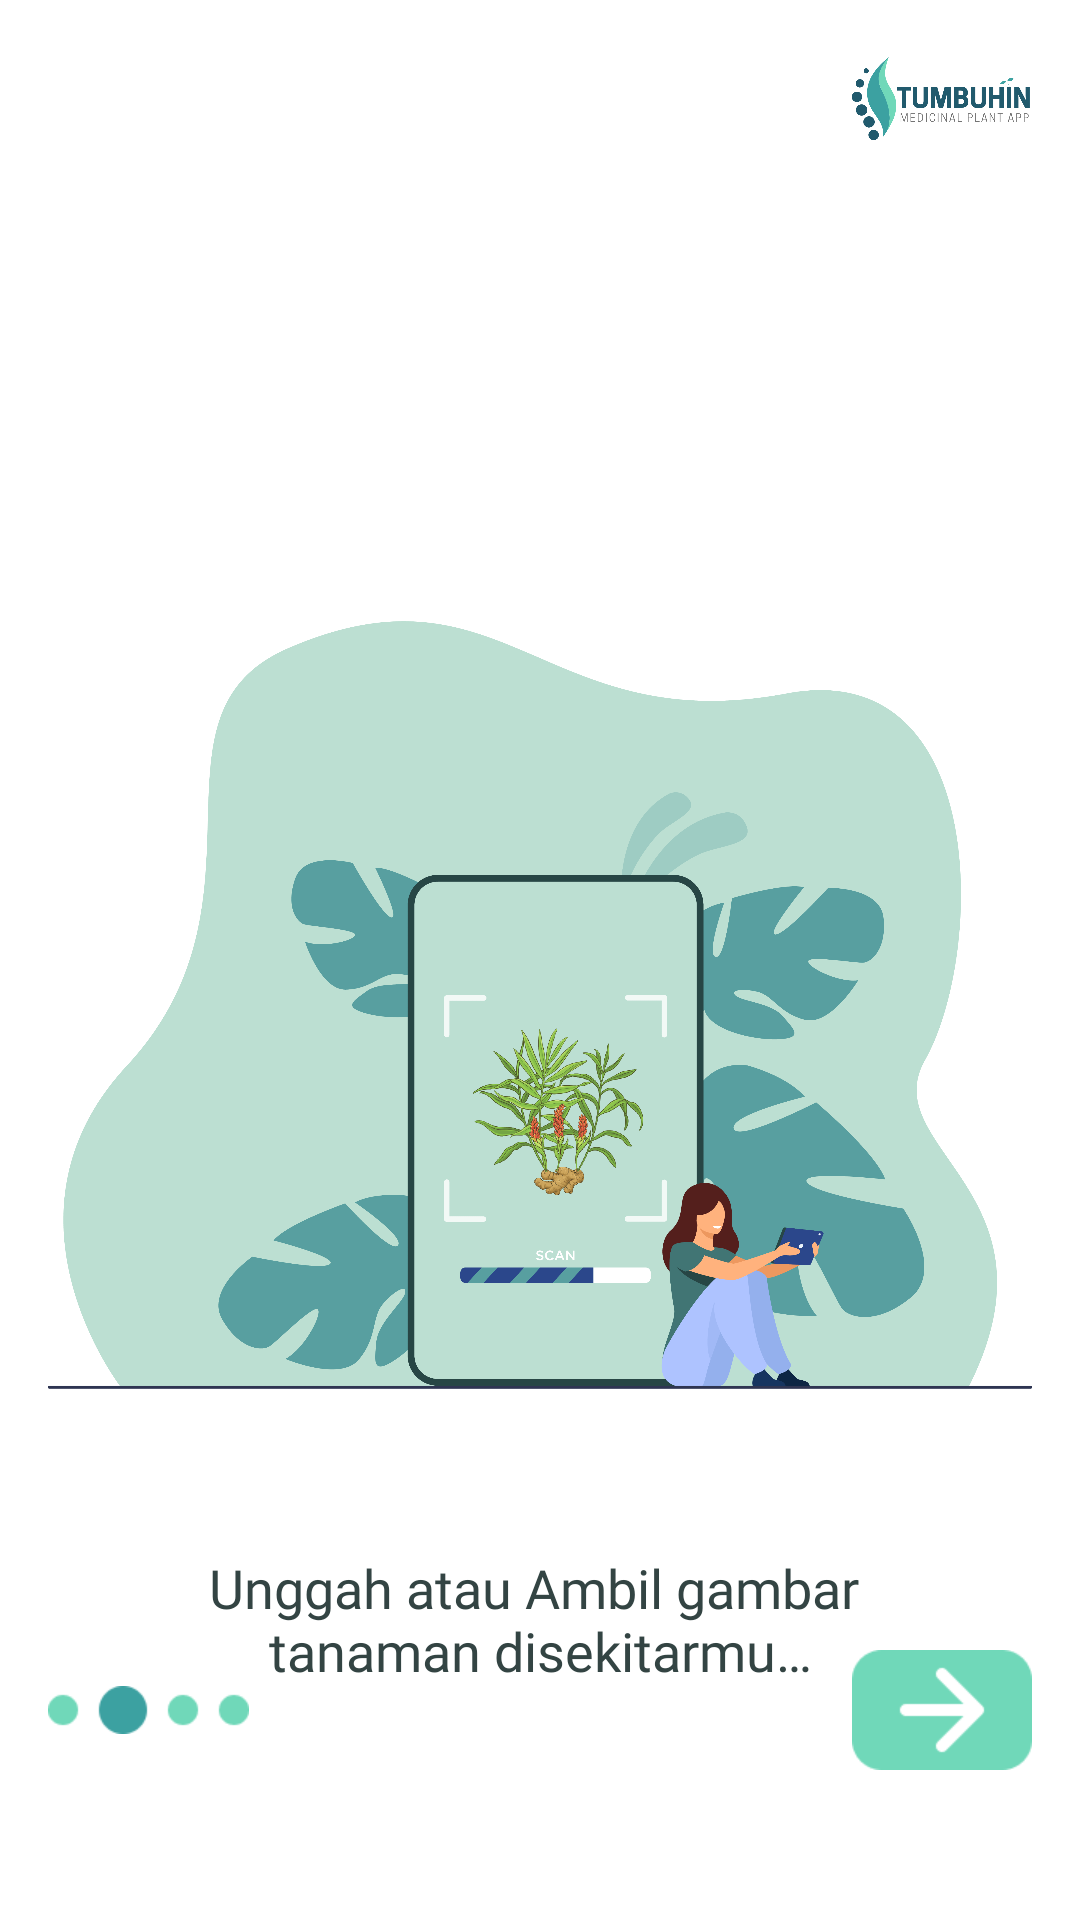

Icons on this 1080w x 1920h Android screen, each with its box as (x1, y1, x2, y2):
Next Button: (852, 1650, 1032, 1770)
Progress Icon: (48, 1686, 249, 1734)
